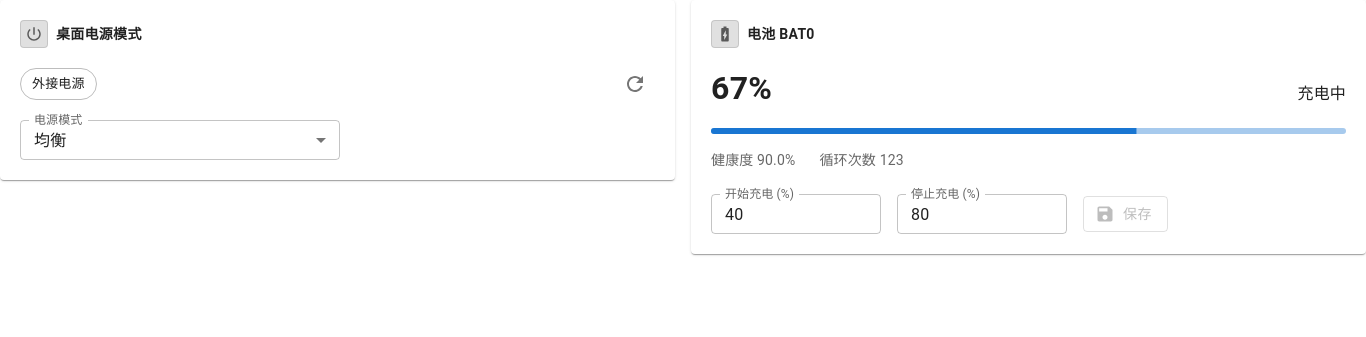
Test: PowerPage › preserves denial errors and permits retry
Replace the text in the number field labelled "停止充电 (%)" with "90" at (982, 214), box x1=897 y1=194 x2=1067 y2=234
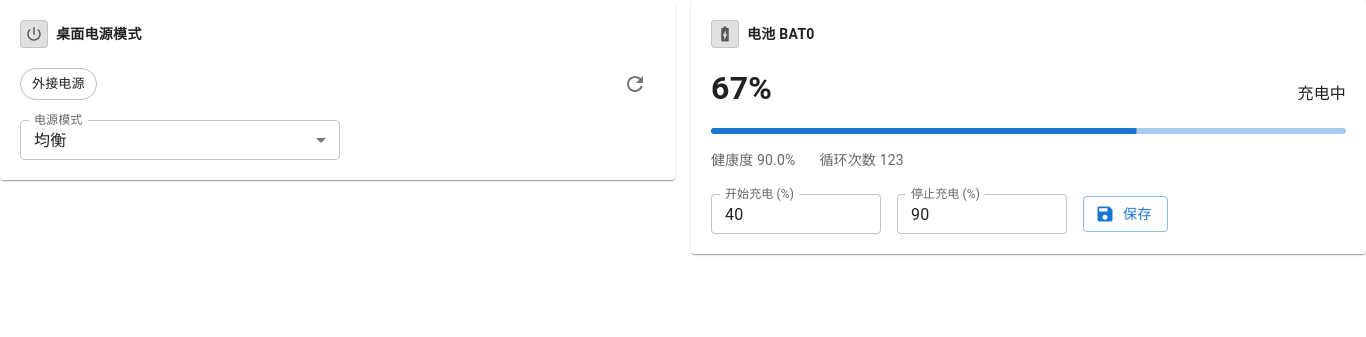
Click the button "保存" at (1125, 214), box x1=1083 y1=196 x2=1168 y2=232
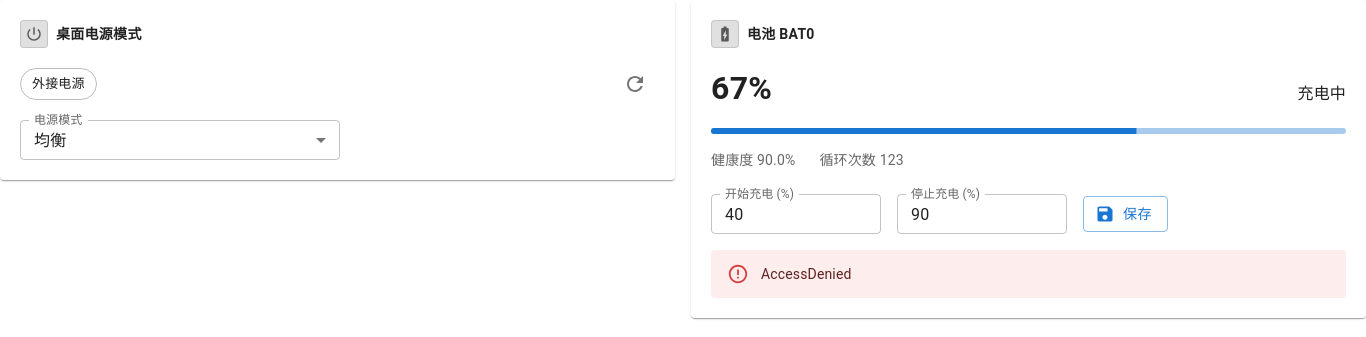
Now the button "保存" is enabled, box x1=1083 y1=196 x2=1168 y2=232
Now the text "AccessDenied" is shown, box x1=761 y1=266 x2=852 y2=282
